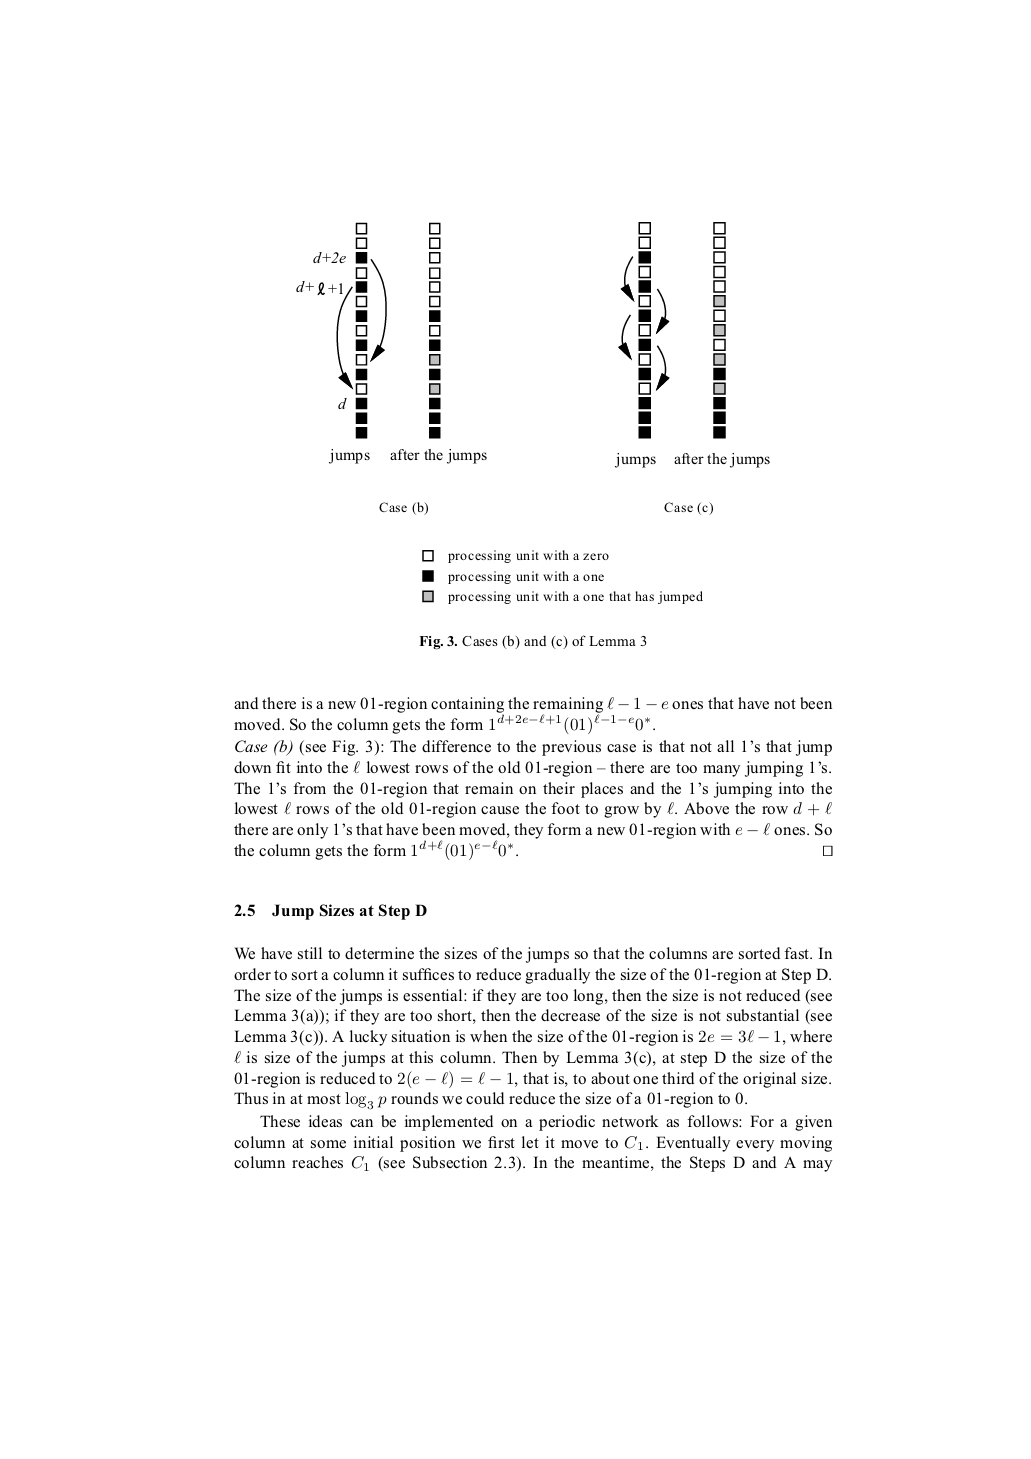figure: (296, 221, 440, 439), (618, 221, 725, 439)
